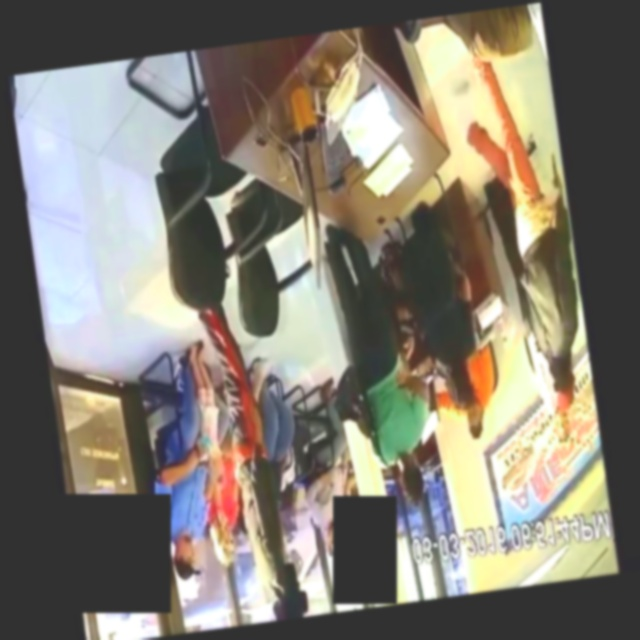gun: (542, 150, 562, 193)
